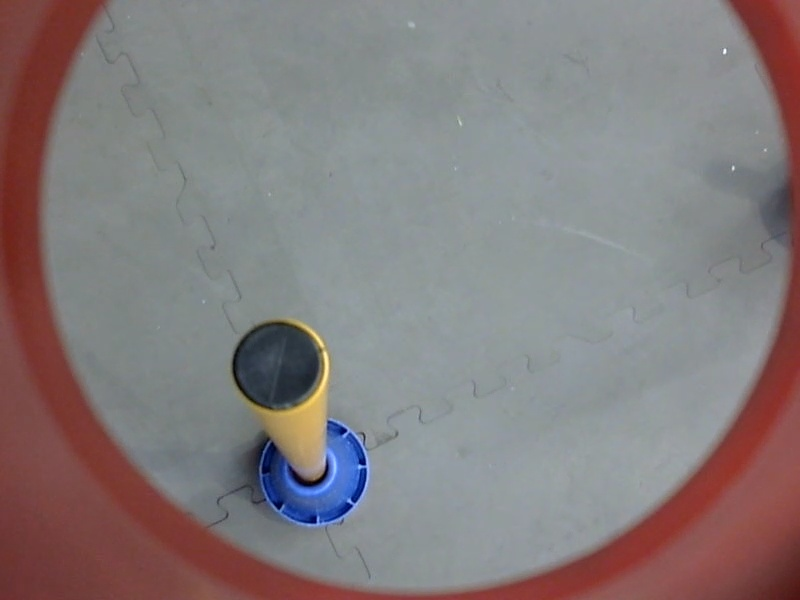tip: (224, 309, 331, 422)
